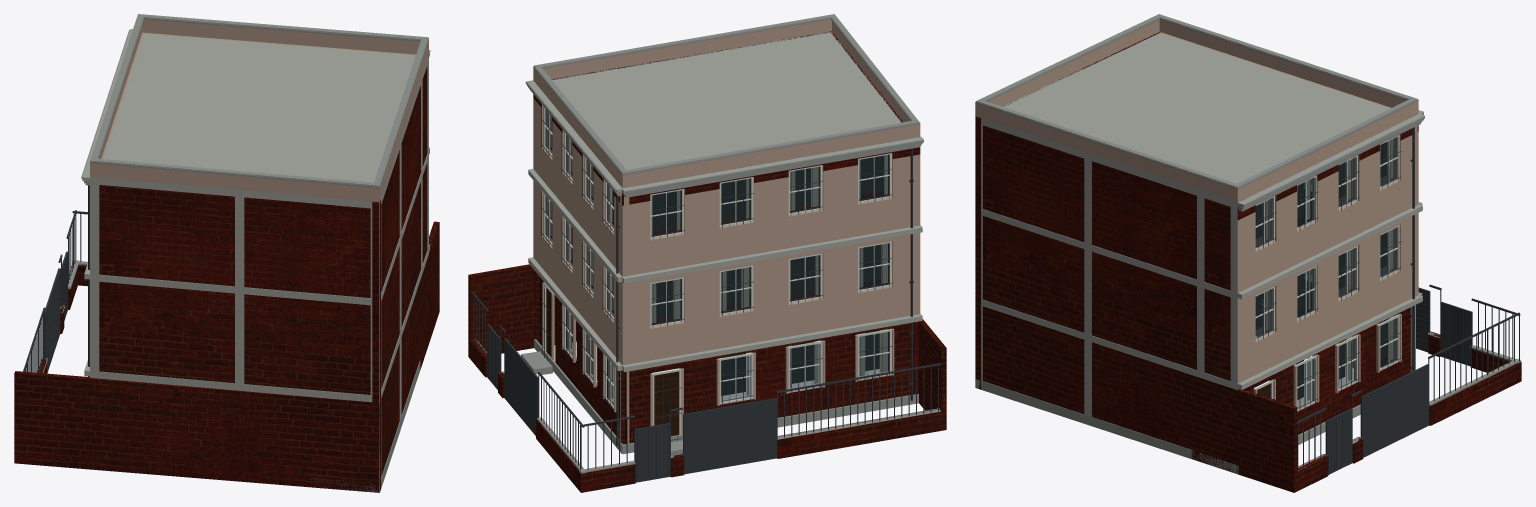
Rendered from building.glb.
The picture shows the model from 3 angles, left to right: view 1: azimuth 30°, elevation 25°; view 2: azimuth 150°, elevation 25°; view 3: azimuth 270°, elevation 25°; orthographic projection. The views are drawn at different scales.
Parts seen in each view (by area): view 1: main:0/edge0/z0/main:0/edge0/z0/wall_0_0/core0, roof/main:0/roof_slab#0001, site/fence/0/wall#0001, main:0/edge1/z0/main:0/edge1/z0/wall_0_0/core0, roof/main:0/parapet#0001, roof/main:0/parapet_cap#0002, roof/main:0/parapet_cap#0001, main:0/edge0/z0/main:0/edge0/z0/beam_1_0/core0, main:0/edge0/z0/main:0/edge0/z0/beam_0_0/core0, main:0/edge0/z0/main:0/edge0/z0/beam_2_0/core0, site/fence/1/wall#0001, main:0/edge1/z0/main:0/edge1/z0/wall_0_0/clip1 (+9 smaller); view 2: main:0/edge3/z0/main:0/edge3/z0/wall_1_0, roof/main:0/roof_slab#0001, main:0/edge2/z0/main:0/edge2/z0/wall_1_0, main:0/edge3/z0/main:0/edge3/z0/coating_0_0_0, roof/main:0/parapet#0001, site/fence/3/garage_door#0001, site/fence/1/wall#0001, roof/main:0/parapet_cap#0002, site/fence/3/boundary_base#0003, main:0/edge2/z0/main:0/edge2/z0/coating_0_0_0, main:0/edge3/z0/floor_slab#0002, main:0/edge3/z0/floor_slab#0001 (+43 smaller); view 3: main:0/edge1/z0/main:0/edge1/z0/wall_0_0/core0, roof/main:0/roof_slab#0001, main:0/edge2/z0/main:0/edge2/z0/wall_1_0, roof/main:0/parapet#0001, site/fence/1/wall#0001, main:0/edge2/z0/main:0/edge2/z0/coating_0_0_0, site/fence/2/garage_door#0001, roof/main:0/parapet_cap#0002, main:0/edge1/z0/plinth#0001, roof/main:0/parapet_cap#0001, site/fence/2/boundary_base#0003, main:0/edge1/z0/main:0/edge1/z0/beam_1_0/core0 (+32 smaller).
Boxes of the visible parts, x1,y1,x2,y2 form: main:0/edge0/z0/main:0/edge0/z0/wall_0_0/core0: [99, 185, 370, 394]; roof/main:0/roof_slab#0001: [90, 33, 428, 200]; site/fence/0/wall#0001: [14, 371, 379, 492]; main:0/edge1/z0/main:0/edge1/z0/wall_0_0/core0: [381, 66, 427, 476]; roof/main:0/parapet#0001: [90, 19, 428, 202]; roof/main:0/parapet_cap#0002: [90, 14, 428, 186]; roof/main:0/parapet_cap#0001: [90, 14, 428, 188]; main:0/edge0/z0/main:0/edge0/z0/beam_1_0/core0: [90, 274, 372, 305]; main:0/edge0/z0/main:0/edge0/z0/beam_0_0/core0: [90, 371, 372, 402]; main:0/edge0/z0/main:0/edge0/z0/beam_2_0/core0: [90, 177, 372, 208]; site/fence/1/wall#0001: [420, 221, 439, 369]; main:0/edge1/z0/main:0/edge1/z0/wall_0_0/clip1: [372, 201, 379, 492]; main:0/edge3/z0/main:0/edge3/z0/wall_1_0: [620, 153, 920, 364]; roof/main:0/roof_slab#0001: [552, 32, 900, 169]; main:0/edge2/z0/main:0/edge2/z0/wall_1_0: [533, 98, 629, 365]; main:0/edge3/z0/main:0/edge3/z0/coating_0_0_0: [621, 323, 910, 444]; roof/main:0/parapet#0001: [533, 19, 920, 187]; site/fence/3/garage_door#0001: [683, 398, 777, 474]; site/fence/1/wall#0001: [468, 264, 535, 353]; roof/main:0/parapet_cap#0002: [534, 14, 919, 173]; site/fence/3/boundary_base#0003: [777, 411, 946, 458]; main:0/edge2/z0/main:0/edge2/z0/coating_0_0_0: [539, 276, 626, 443]; main:0/edge3/z0/floor_slab#0002: [622, 225, 922, 283]; main:0/edge3/z0/floor_slab#0001: [622, 314, 922, 372]; main:0/edge1/z0/main:0/edge1/z0/wall_0_0/core0: [982, 125, 1238, 449]; roof/main:0/roof_slab#0001: [975, 33, 1389, 206]; main:0/edge2/z0/main:0/edge2/z0/wall_1_0: [1237, 134, 1412, 383]; roof/main:0/parapet#0001: [975, 20, 1418, 202]; site/fence/1/wall#0001: [1191, 375, 1297, 492]; main:0/edge2/z0/main:0/edge2/z0/coating_0_0_0: [1244, 307, 1410, 434]; site/fence/2/garage_door#0001: [1360, 364, 1429, 457]; roof/main:0/parapet_cap#0002: [976, 14, 1417, 187]; main:0/edge1/z0/plinth#0001: [976, 379, 1237, 473]; roof/main:0/parapet_cap#0001: [975, 18, 1418, 189]; site/fence/2/boundary_base#0003: [1429, 362, 1521, 425]; main:0/edge1/z0/main:0/edge1/z0/beam_1_0/core0: [981, 209, 1237, 299].
Size of the model in its own units: 14.34 by 8.99 by 15.31.
10 materials, 2 textured.
